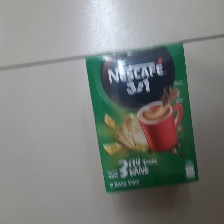Nes Rang: (80, 39, 202, 194)
